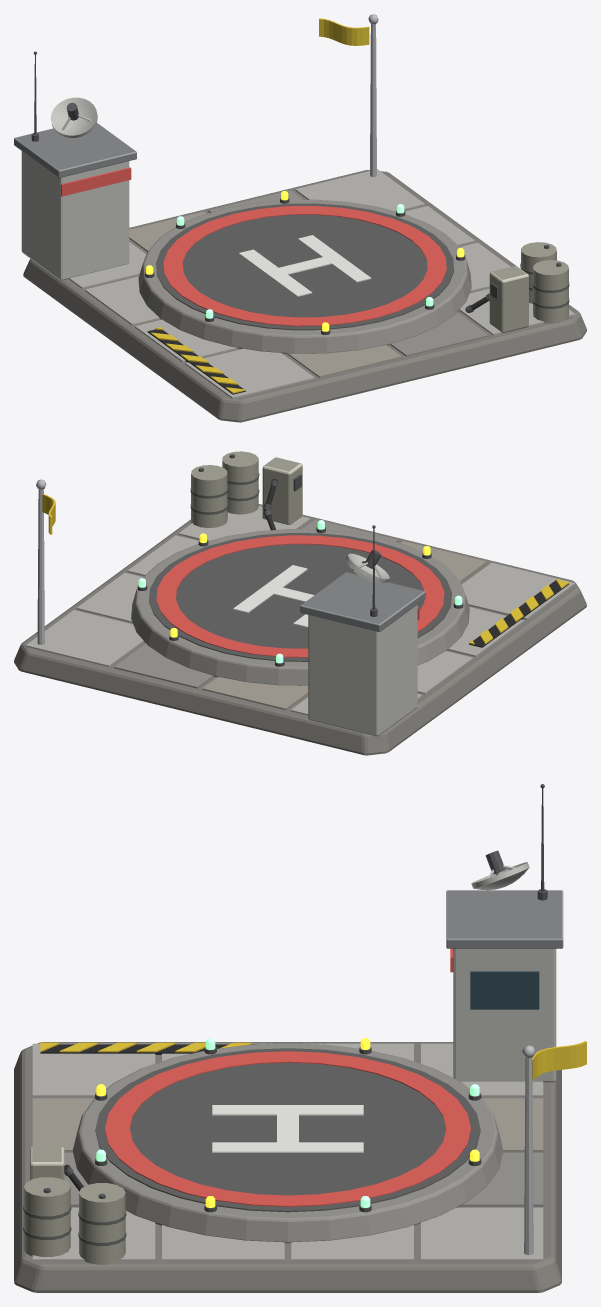
The model's file is helipad_red.glb.
The picture shows the model from 3 angles, top to bottom: view 1: azimuth 30°, elevation 25°; view 2: azimuth 150°, elevation 25°; view 3: azimuth 270°, elevation 25°; orthographic projection. The views are drawn at different scales.
Parts seen in each view (by area): view 1: Body; view 2: Body; view 3: Body.
Part boxes in pixels (x1,y1,x2,y2): Body: (14,14,586,422); Body: (14,451,586,755); Body: (14,784,586,1292).
Bounding box in the file's own units: 3.99 × 2.3 × 4.16.
1 material, 1 textured.
